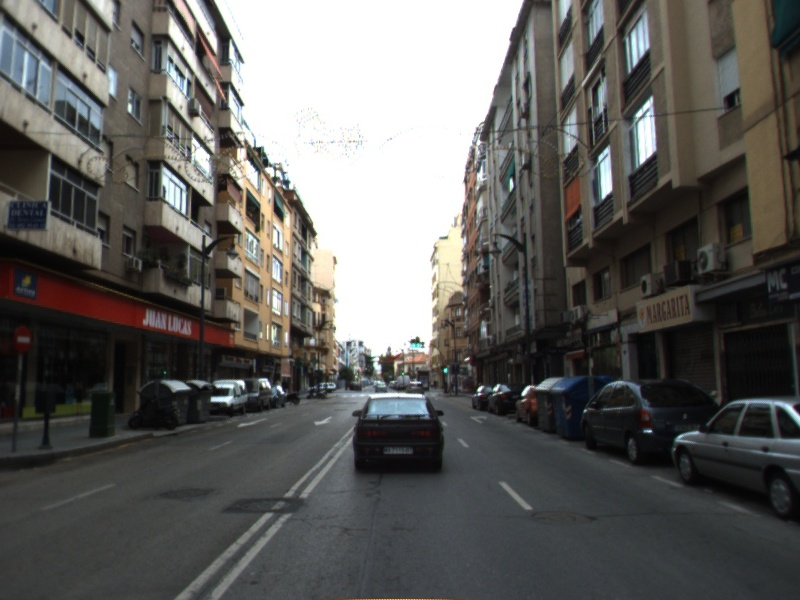RIGHT: (468, 414, 489, 425)
